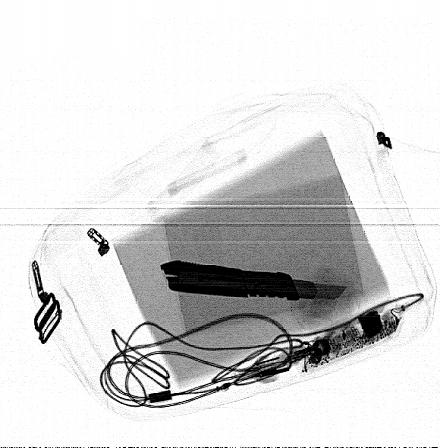Knife: (159, 259, 347, 302)
